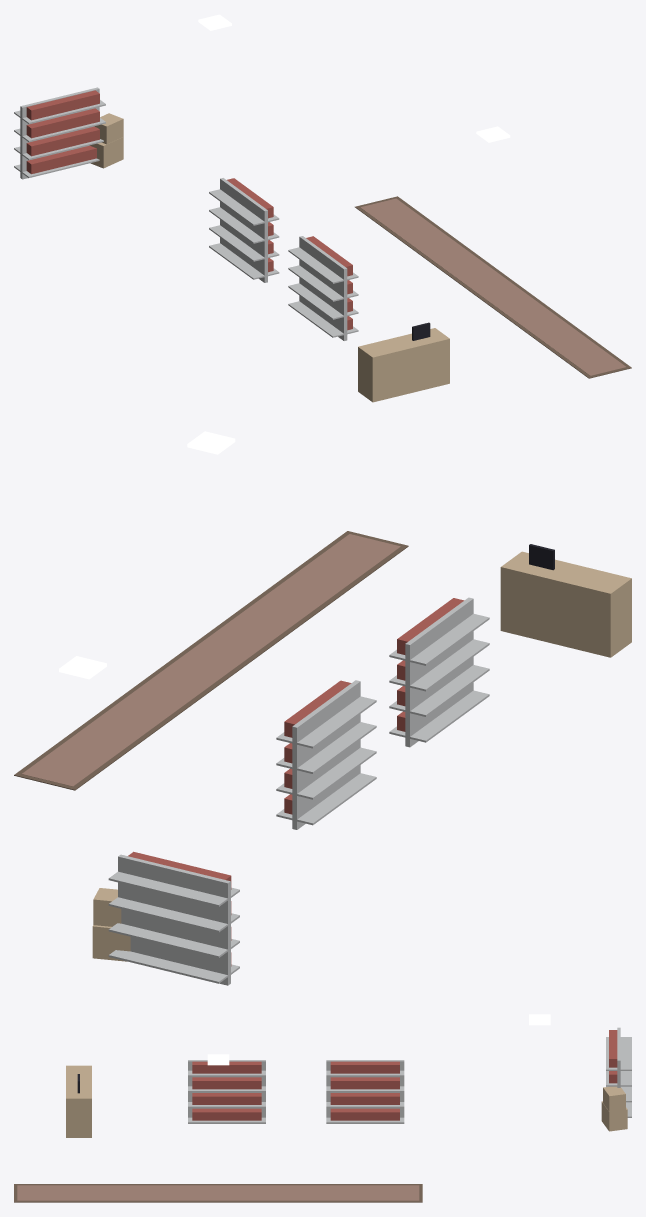
Rendered from fine-s0.glb.
3 renders of one model, top to bottom at view 1: azimuth 30°, elevation 25°; view 2: azimuth 150°, elevation 25°; view 3: azimuth 270°, elevation 25°, orthographic. The views are drawn at different scales.
Parts seen in each view (by area): view 1: soft-s0, shelving.000, shop-counter.000, shelf.000, shelf.001, cardboard-box.000; view 2: soft-s0, shelving.000, shop-counter.000, shelf.001, shelf.000, cardboard-box.000; view 3: soft-s0, shelf.000, shelf.001, shop-counter.000, shelving.000, cardboard-box.000.
Part boxes in pixels (box(x1,y1,x2,y2)): soft-s0: box(355, 196, 631, 378); shelving.000: box(14, 87, 105, 179); shop-counter.000: box(358, 322, 449, 402); shelf.000: box(209, 178, 279, 282); shelf.001: box(288, 236, 358, 340); cardboard-box.000: box(90, 113, 123, 168); soft-s0: box(14, 531, 408, 790); shelving.000: box(108, 851, 239, 985); shop-counter.000: box(500, 544, 631, 657); shelf.001: box(389, 597, 489, 747); shelf.000: box(276, 680, 376, 829); cardboard-box.000: box(92, 888, 130, 961); soft-s0: box(14, 1184, 422, 1202); shelf.000: box(326, 1060, 404, 1123); shelf.001: box(188, 1060, 265, 1123); shop-counter.000: box(66, 1065, 91, 1137); shelving.000: box(606, 1027, 631, 1117); cardboard-box.000: box(601, 1086, 627, 1131).
Bounding box in the file's own units: 6.15 × 3.44 × 14.29.
